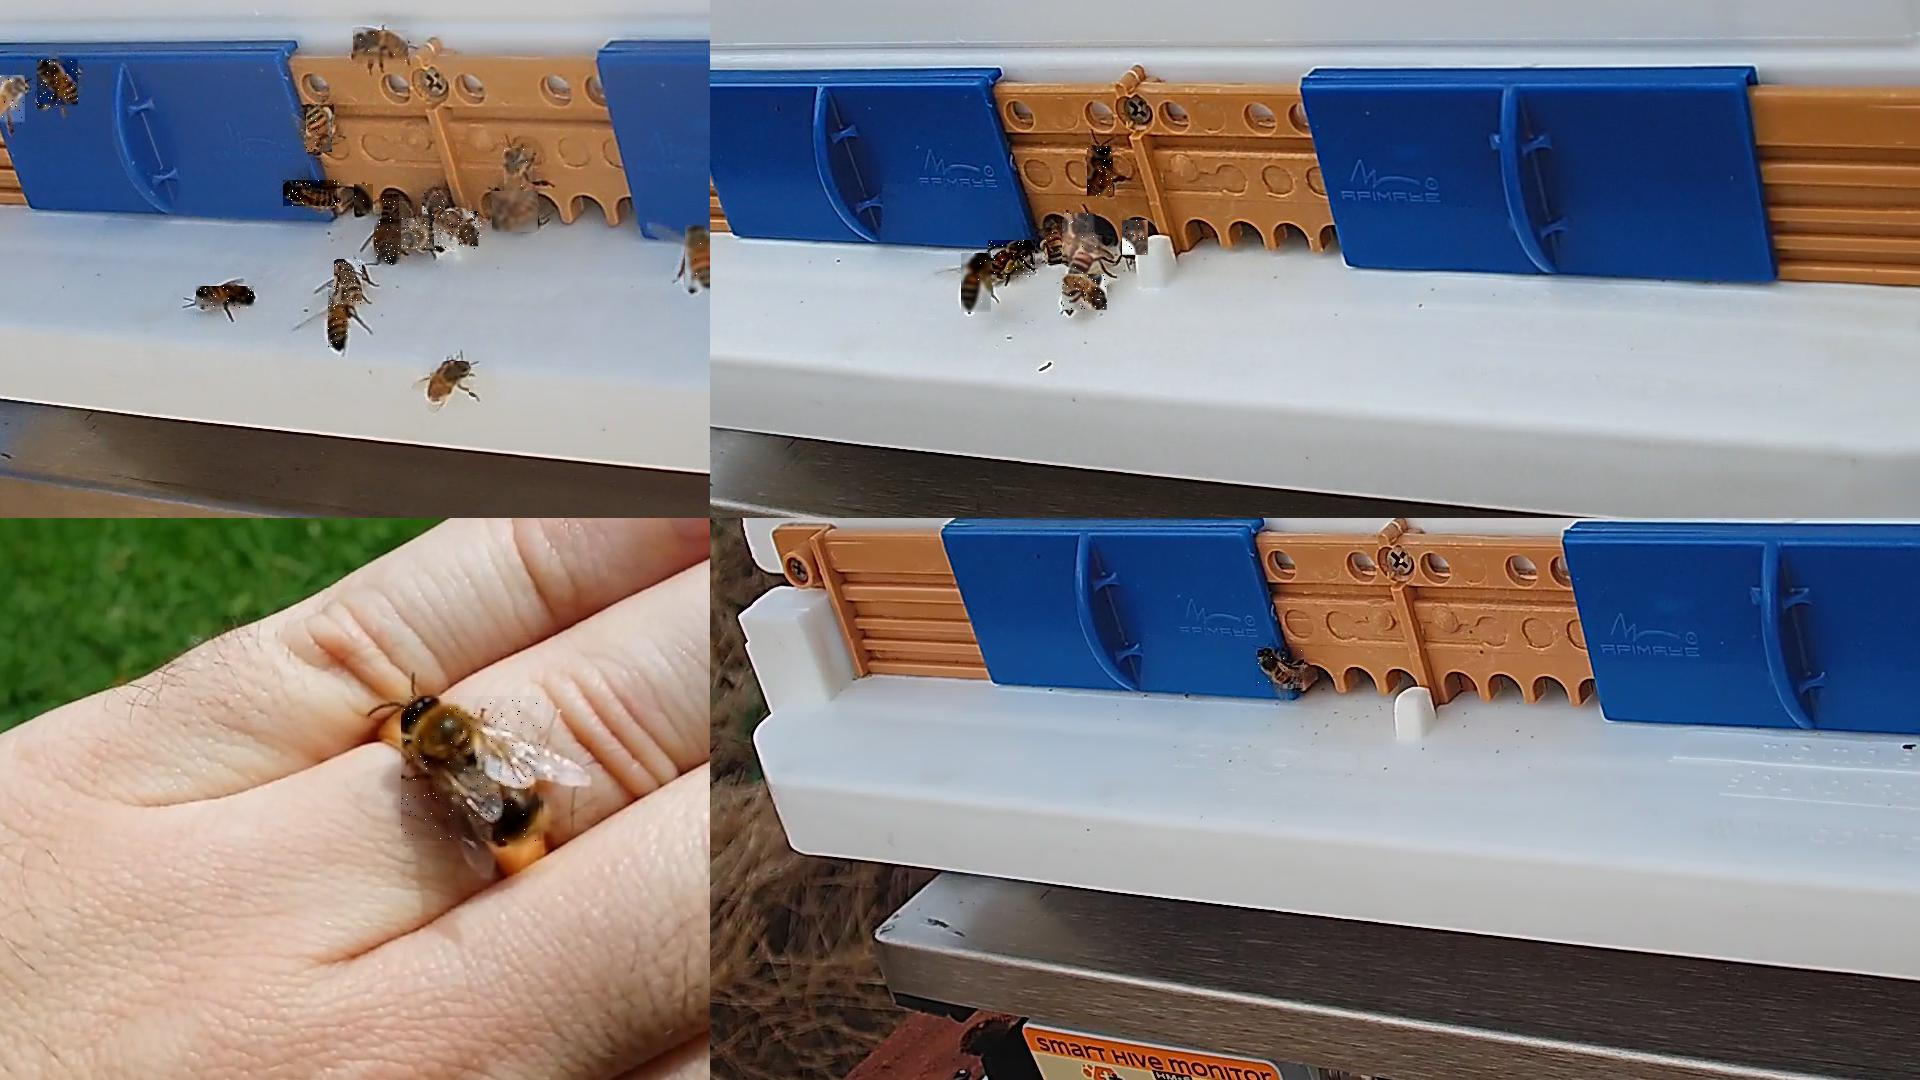bee: (37, 59, 79, 108), (1255, 647, 1305, 688), (492, 191, 539, 233), (961, 253, 992, 315), (353, 30, 409, 63), (435, 212, 483, 251), (1068, 235, 1104, 284), (1062, 274, 1108, 311), (684, 225, 709, 293), (504, 148, 534, 202), (430, 361, 469, 402), (284, 181, 340, 207), (1065, 214, 1098, 257), (196, 286, 255, 310), (0, 75, 26, 127), (1088, 146, 1114, 198), (334, 260, 363, 306), (328, 289, 349, 349), (375, 219, 402, 265), (1046, 219, 1067, 265), (401, 218, 430, 251), (1122, 220, 1149, 256), (422, 191, 446, 219), (353, 185, 375, 214), (380, 194, 400, 224)
drone: (402, 696, 543, 843)
pollenbee: (988, 241, 1036, 278), (306, 104, 334, 153)
